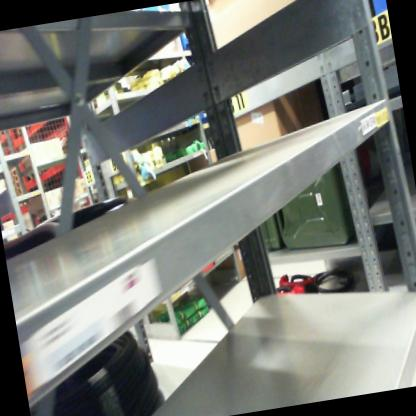pallet: (12, 174, 36, 189), (9, 161, 28, 174), (10, 170, 30, 182), (14, 184, 31, 196)
